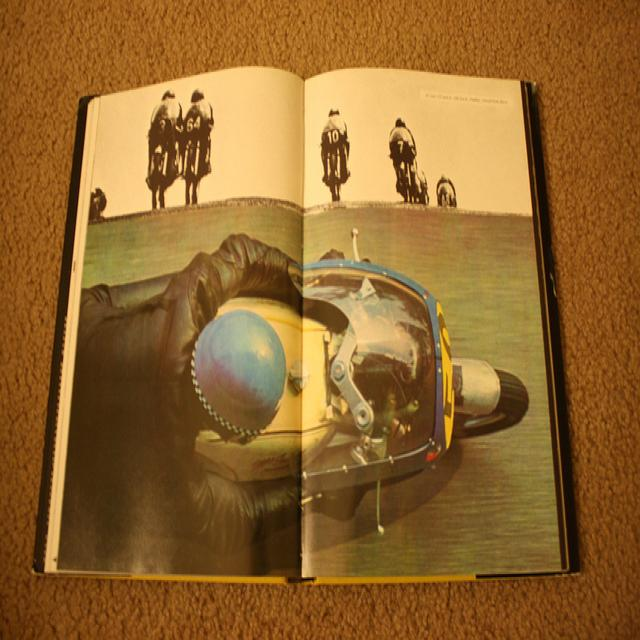motor: (193, 256, 531, 538)
